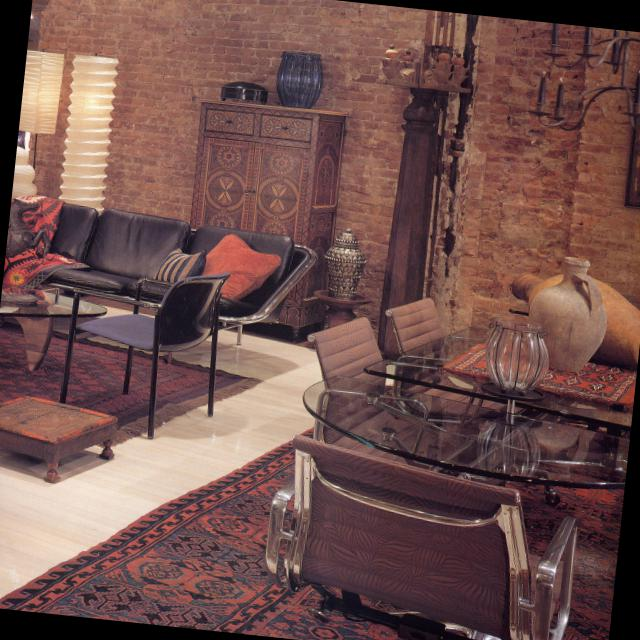Furniture: (191, 101, 344, 329)
